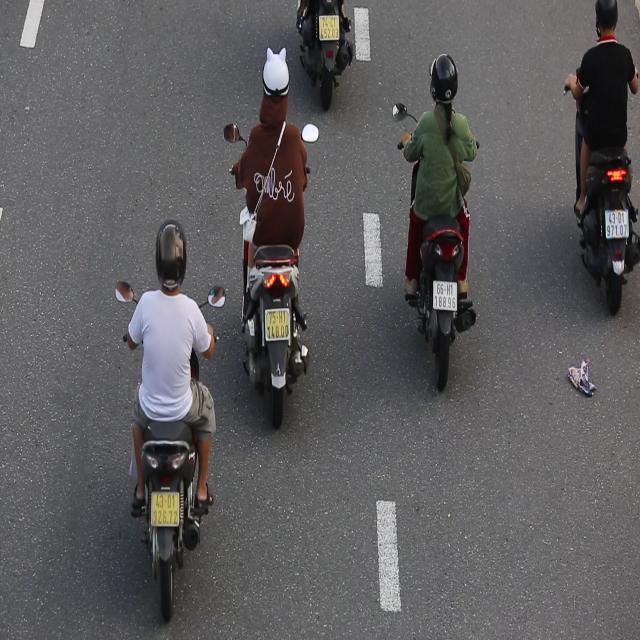motorbike: (112, 217, 226, 629), (218, 51, 324, 438), (389, 48, 482, 400), (561, 0, 639, 318)
